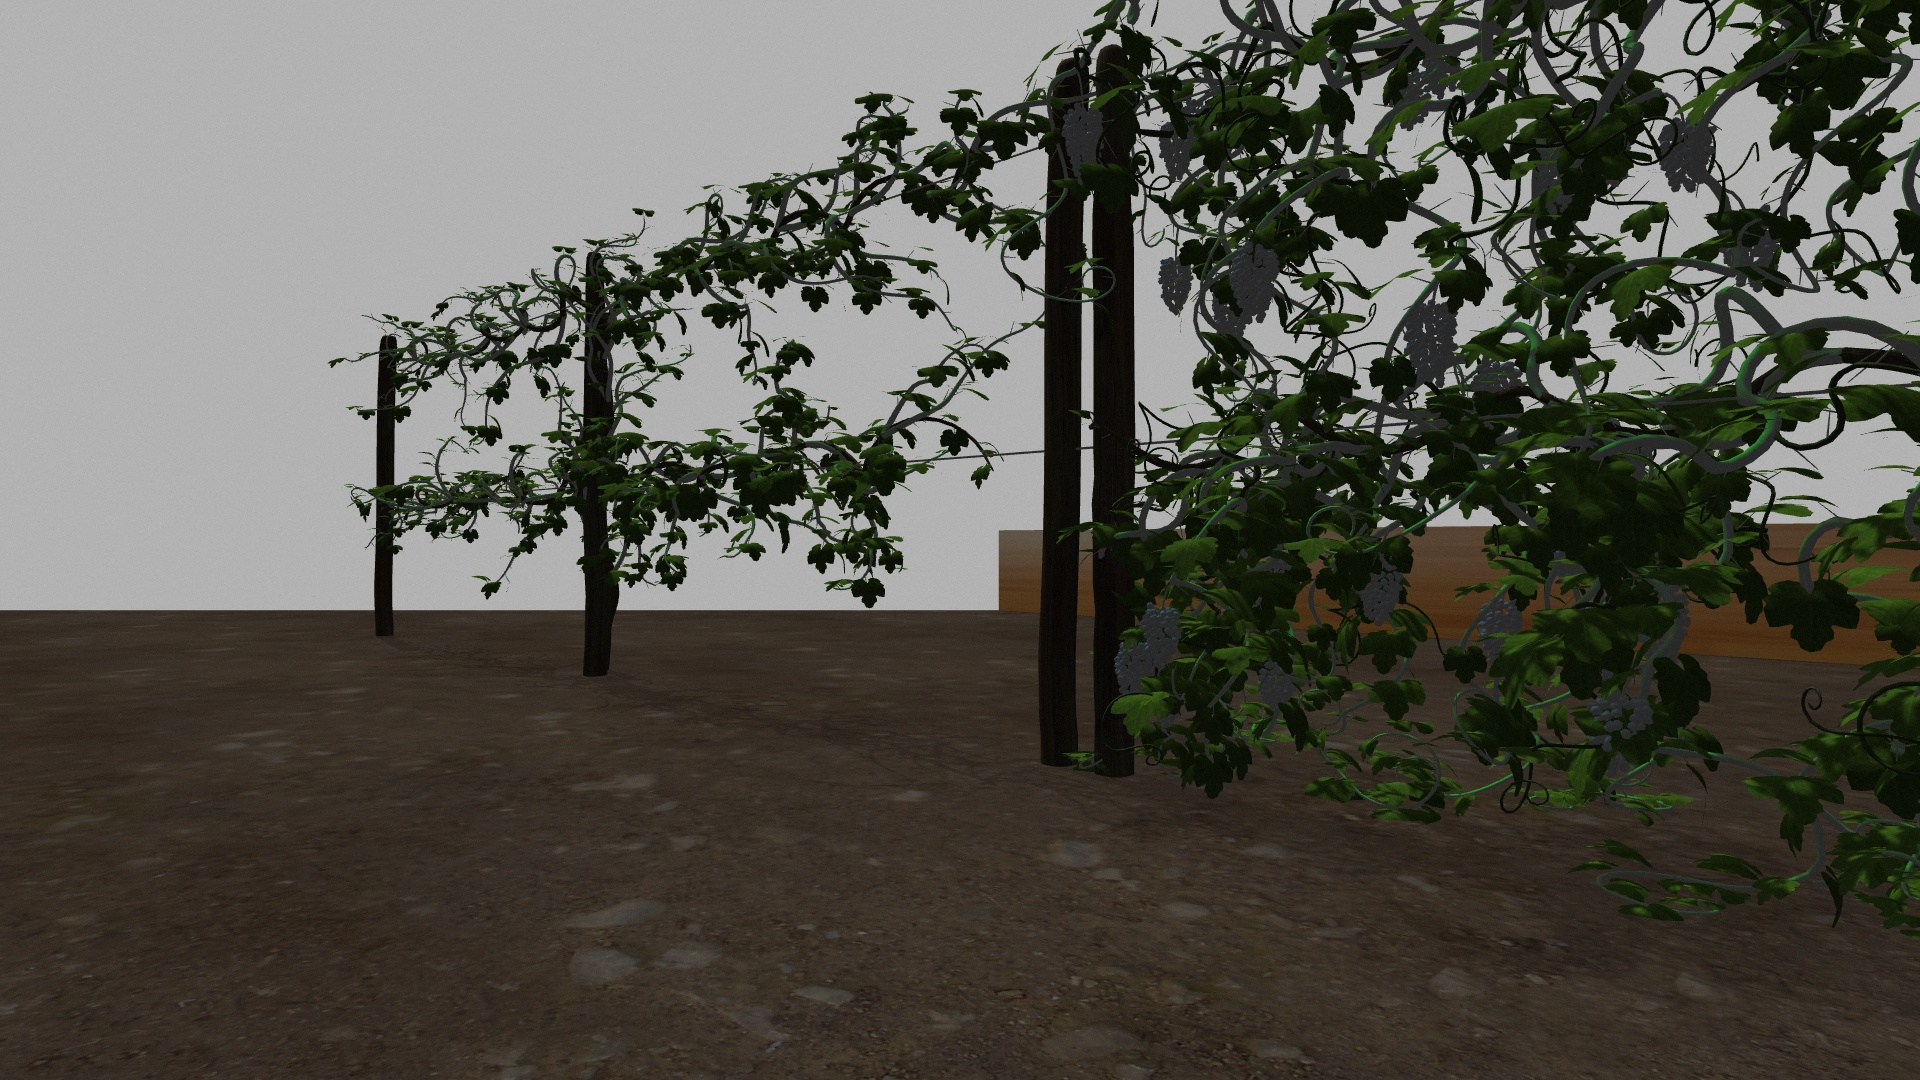grape: (1403, 301, 1460, 389), (1658, 117, 1716, 195), (1229, 243, 1279, 324), (1592, 692, 1654, 742), (1358, 560, 1404, 628), (1062, 105, 1104, 177), (1480, 596, 1524, 661), (1141, 604, 1184, 669), (1158, 120, 1197, 183), (1156, 255, 1193, 316), (1255, 659, 1298, 709), (1114, 640, 1147, 696)
